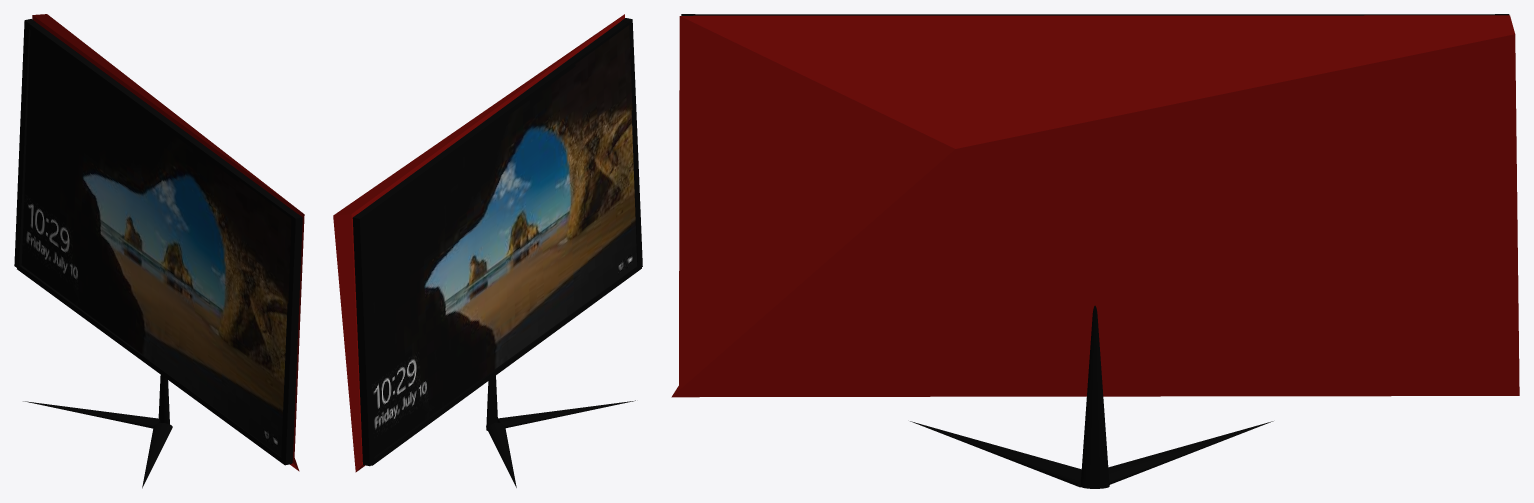
The picture shows the model from 3 angles, left to right: view 1: azimuth 30°, elevation 25°; view 2: azimuth 150°, elevation 25°; view 3: azimuth 270°, elevation 25°; orthographic projection. The views are drawn at different scales.
Parts seen in each view (by area): view 1: d9af6c19-b9e6-4a17-9c25-e1db2968b0b1, Cube, Cube.004, Cube.001, Cube.003, Cube.002, Cone.002, Cone.001, Cone; view 2: d9af6c19-b9e6-4a17-9c25-e1db2968b0b1, Cube, Cube.004, Cube.002, Cube.003, Cube.001, Cone.001, Cone.002, Cone; view 3: Cube, Cone, Cone.001, Cone.002, Cube.004.
Boxes of the visible parts, x1,y1,x2,y2 form: d9af6c19-b9e6-4a17-9c25-e1db2968b0b1: (21, 30, 291, 456); Cube: (32, 14, 304, 471); Cube.004: (29, 22, 297, 222); Cube.001: (281, 214, 302, 464); Cube.003: (17, 265, 291, 465); Cube.002: (14, 19, 35, 268); Cone.002: (23, 401, 160, 428); Cone.001: (142, 423, 172, 488); Cone: (158, 375, 169, 424); d9af6c19-b9e6-4a17-9c25-e1db2968b0b1: (364, 25, 637, 456); Cube: (333, 14, 624, 472); Cube.004: (358, 20, 631, 220); Cube.002: (352, 214, 374, 466); Cube.003: (371, 263, 641, 465); Cube.001: (621, 18, 642, 266); Cone.001: (498, 400, 635, 427); Cone.002: (486, 422, 516, 487); Cone: (486, 375, 497, 430); Cube: (671, 15, 1519, 397); Cone: (1080, 305, 1109, 488); Cone.001: (910, 421, 1081, 487); Cone.002: (1105, 421, 1273, 485); Cube.004: (695, 14, 1494, 15).
Size of the model in its own units: 29.66 by 84.88 by 137.
9 materials, 1 textured.
